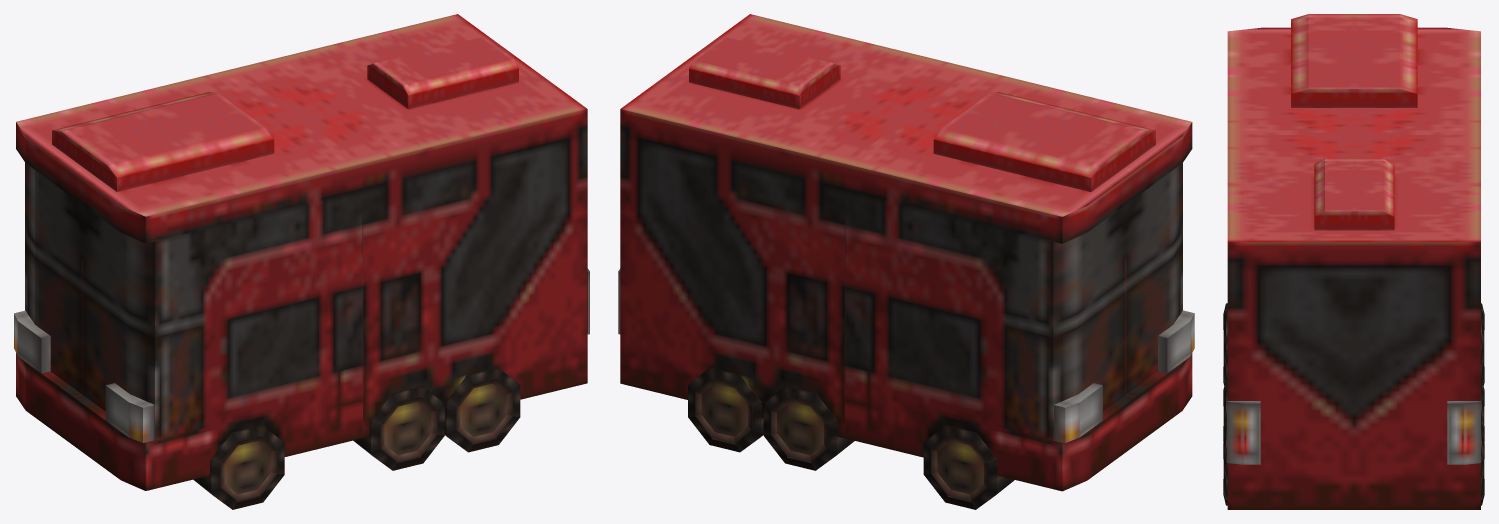
Rendered from Poly_SF_Outside_B_Bus_01.obj.
3 renders of one model, left to right at view 1: azimuth 30°, elevation 25°; view 2: azimuth 150°, elevation 25°; view 3: azimuth 270°, elevation 25°, orthographic. The views are drawn at different scales.
Parts seen in each view (by area): view 1: Cube.005, Cube.004, Cube.007, Cube.001, Cube.002, Cube.008, Cube.006; view 2: Cube.005, Cube.004, Cube.007, Cube.001, Cube.002, Cube.008, Cube.006; view 3: Cube.004, Cube.005, Cube.007, Cube.002, Cube.003, Cube.001, Cube.008.
Part boxes in pixels (bbox=[...]): Cube.005: bbox=[16, 69, 362, 490]; Cube.004: bbox=[233, 14, 587, 437]; Cube.007: bbox=[52, 92, 274, 191]; Cube.001: bbox=[353, 367, 520, 470]; Cube.002: bbox=[367, 37, 518, 109]; Cube.008: bbox=[193, 425, 284, 509]; Cube.006: bbox=[14, 310, 154, 442]; Cube.005: bbox=[845, 69, 1192, 491]; Cube.004: bbox=[620, 14, 974, 438]; Cube.007: bbox=[933, 92, 1155, 191]; Cube.001: bbox=[688, 367, 854, 470]; Cube.002: bbox=[689, 37, 840, 109]; Cube.008: bbox=[923, 425, 1014, 509]; Cube.006: bbox=[1054, 310, 1194, 442]; Cube.004: bbox=[1227, 135, 1480, 509]; Cube.005: bbox=[1227, 27, 1480, 134]; Cube.007: bbox=[1291, 14, 1417, 107]; Cube.002: bbox=[1314, 158, 1394, 230]; Cube.003: bbox=[1227, 401, 1480, 464]; Cube.001: bbox=[1223, 379, 1484, 505]; Cube.008: bbox=[1223, 303, 1484, 385].
Size of the model in its own units: 2.43 by 1.7 by 1.24.
1 material, 1 textured.
